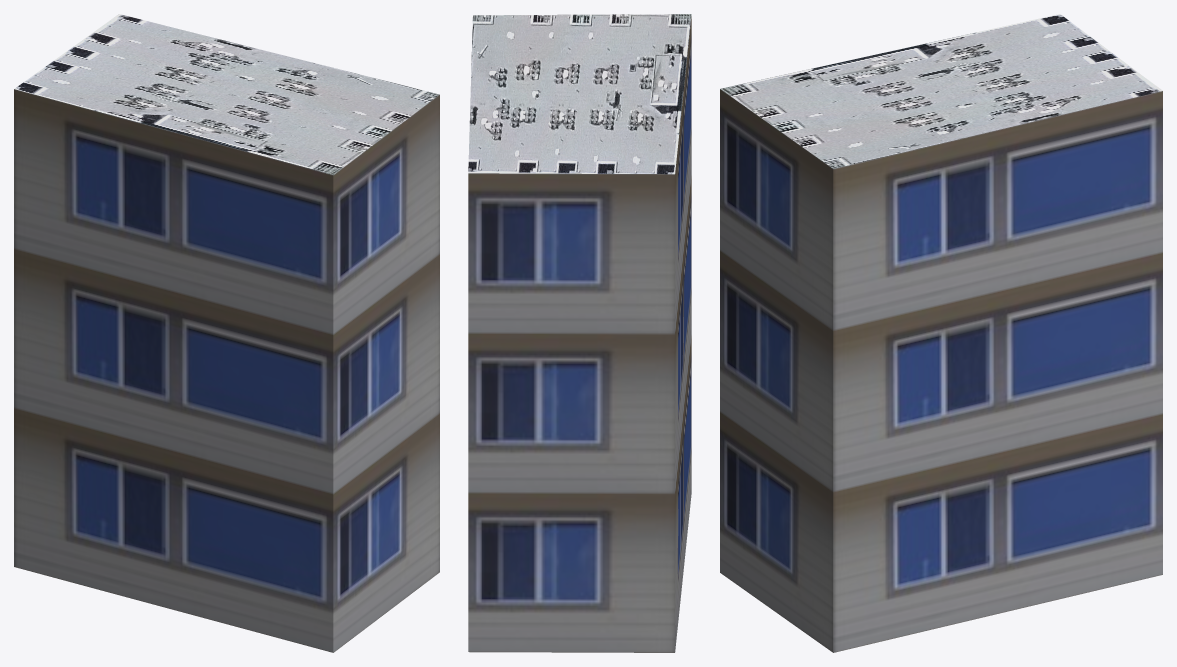
Rendered from ResTex__2498.fbx.
The picture shows the model from 3 angles, left to right: view 1: azimuth 30°, elevation 25°; view 2: azimuth 150°, elevation 25°; view 3: azimuth 270°, elevation 25°; orthographic projection.
Parts seen in each view (by area): view 1: CityEngineMaterial_23_m, CityEngineMaterial_8_m; view 2: CityEngineMaterial_23_m, CityEngineMaterial_8_m; view 3: CityEngineMaterial_23_m, CityEngineMaterial_8_m.
Boxes of the visible parts, x1=… form: CityEngineMaterial_23_m: x1=14, y1=89, x2=439, y2=652; CityEngineMaterial_8_m: x1=14, y1=14, x2=439, y2=174; CityEngineMaterial_23_m: x1=468, y1=16, x2=691, y2=652; CityEngineMaterial_8_m: x1=468, y1=14, x2=691, y2=174; CityEngineMaterial_23_m: x1=720, y1=89, x2=1162, y2=652; CityEngineMaterial_8_m: x1=720, y1=14, x2=1162, y2=168.
Bounding box in the file's own units: 6.19 × 9 × 7.47.
2 materials, 2 textured.
